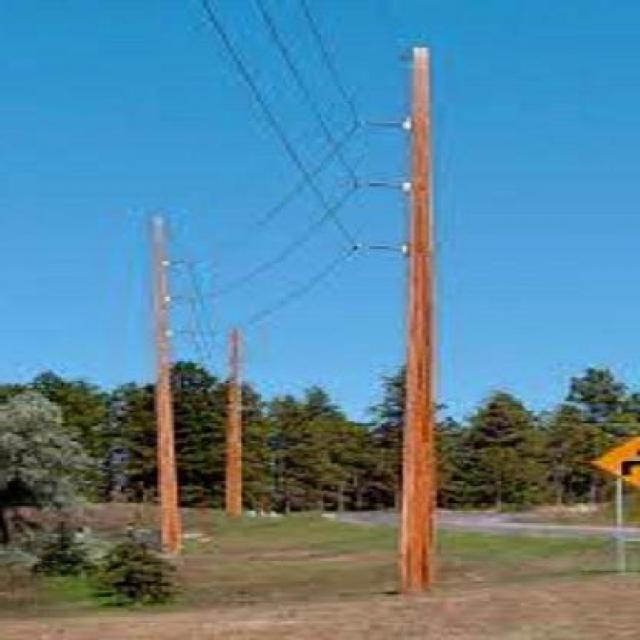pole: (342, 32, 460, 596)
